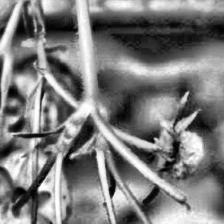Gray Mold: (143, 93, 205, 204)
